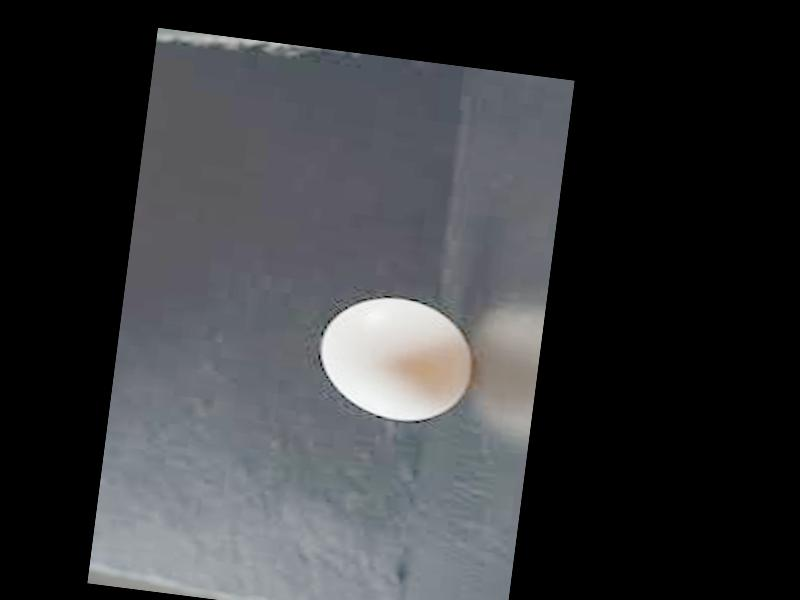Eggs: (309, 290, 478, 428)
